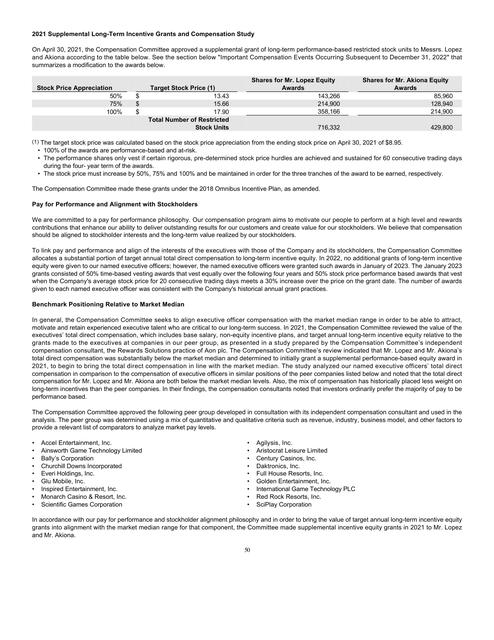box: (30, 74, 463, 133)
